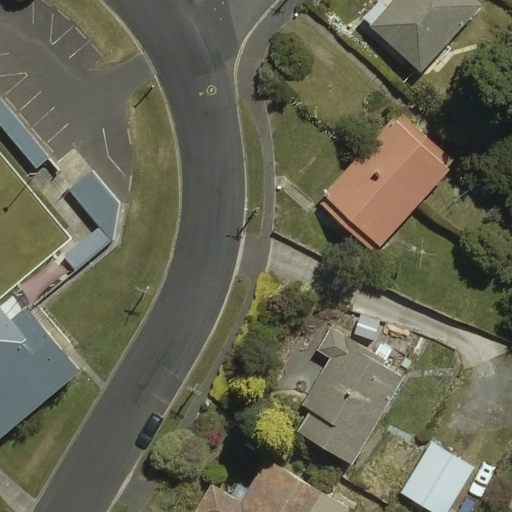DT: (182, 380, 207, 399), (243, 203, 265, 220)
